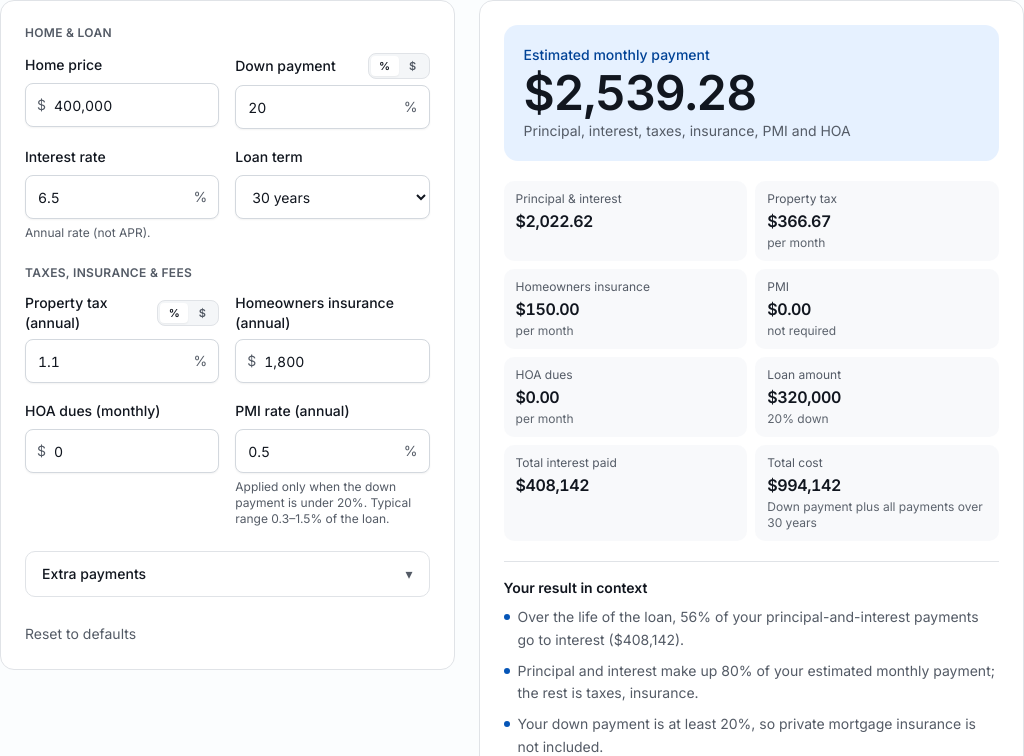
Test: CalculatorEngine › associates validation errors with the input
The width and height of the screenshot is (1024, 756).
Replace the text in the field labelled "Interest rate" with "99" at [122, 197], box [25,175,219,219]
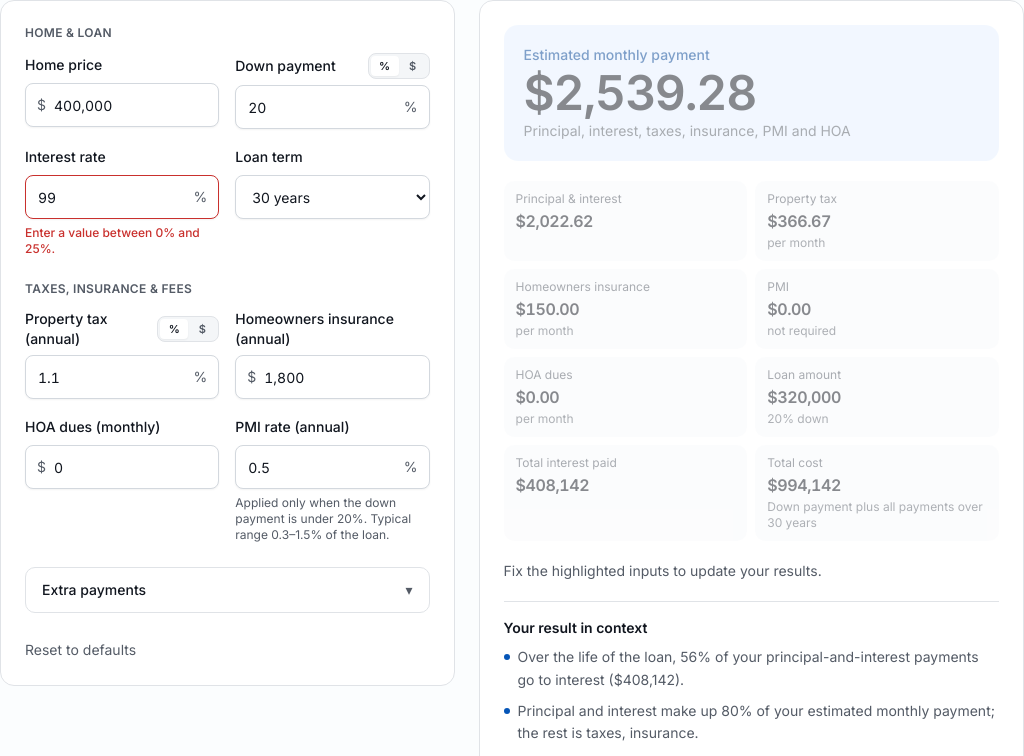
Expected: the text "Fix the highlighted inputs to update your results." is shown, [504,562,822,579]
